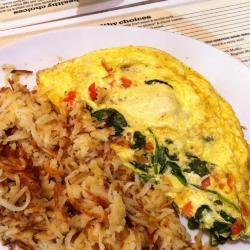omelette: (41, 46, 249, 194)
rice: (4, 105, 179, 247)
